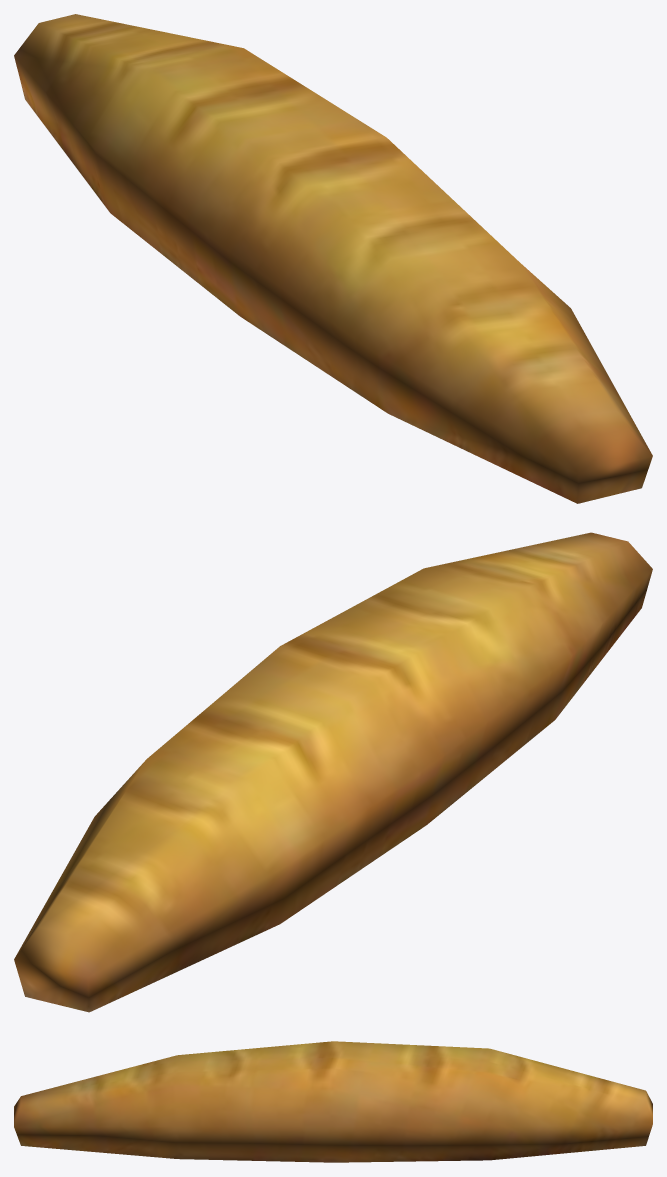
Rendered from SM_baguette_00.gltf.
3 views of the same model, one above another, from view 1: azimuth 30°, elevation 25°; view 2: azimuth 150°, elevation 25°; view 3: azimuth 270°, elevation 25° (orthographic). The views are drawn at different scales.
Visible parts, largest first — view 1: SM_baguette_00; view 2: SM_baguette_00; view 3: SM_baguette_00.
Part boxes in pixels (bbox=[...]): SM_baguette_00: bbox=[14, 14, 652, 503]; SM_baguette_00: bbox=[14, 532, 652, 1012]; SM_baguette_00: bbox=[14, 1041, 652, 1162].
Bounding box in the file's own units: 0.1712 × 0.1091 × 0.7801.
1 material, 1 textured.
